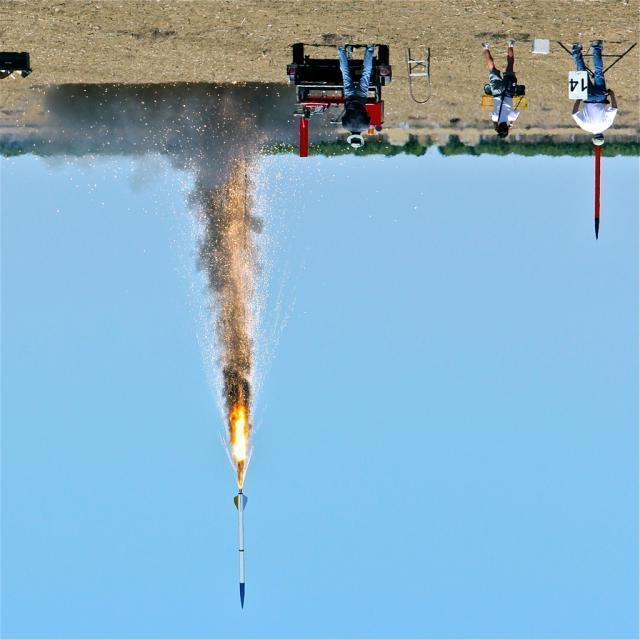missile: (226, 483, 256, 610)
